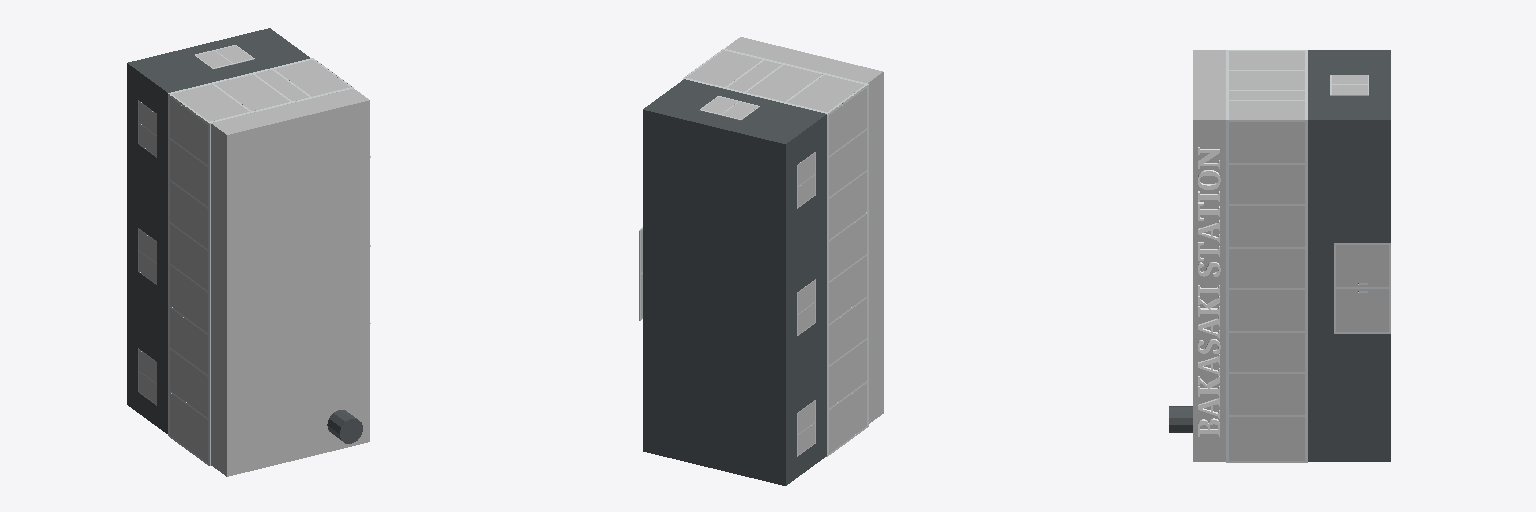
The model's file is tinker 5.obj.
3 views of the same model, side by side, from view 1: azimuth 30°, elevation 25°; view 2: azimuth 150°, elevation 25°; view 3: azimuth 270°, elevation 25° (orthographic).
Parts seen in each view (by area): view 1: obj_0; view 2: obj_0; view 3: obj_0.
Part boxes in pixels (x1,y1,x2,y2): obj_0: (127,28,370,476); obj_0: (639,37,883,485); obj_0: (1169,50,1390,462).
Size of the model in its own units: 20.61 by 46.18 by 27.